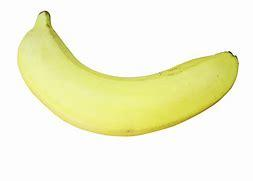banana: (11, 7, 244, 141)
